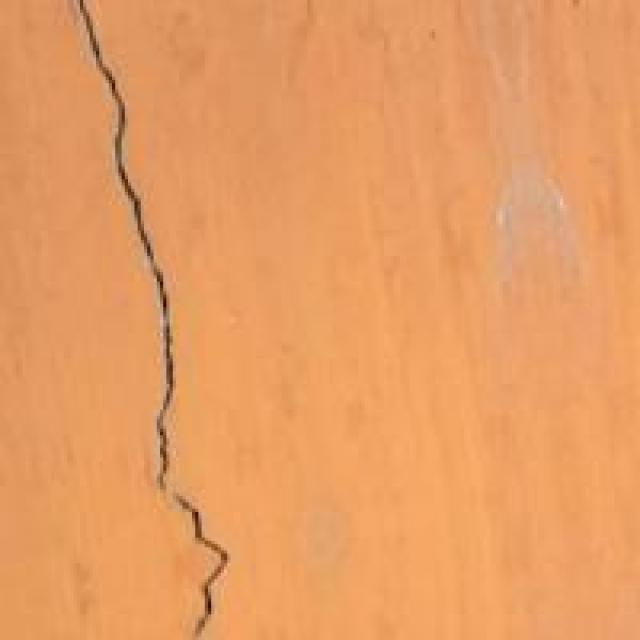Crack: (16, 0, 234, 637)
